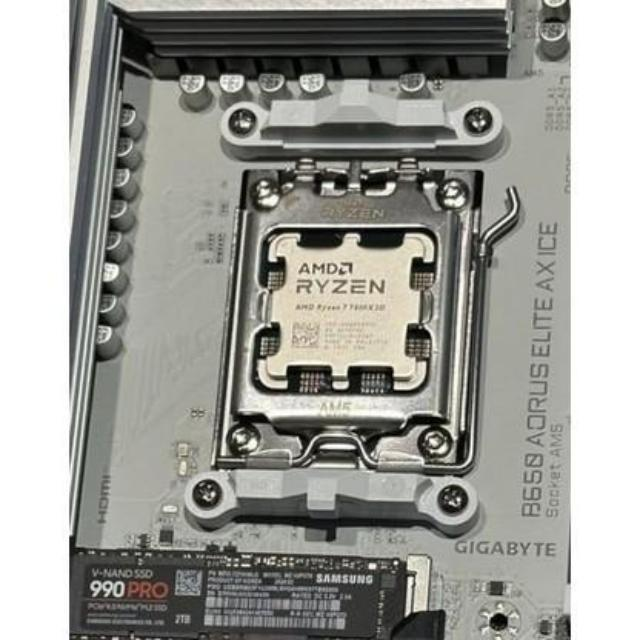CPU: (252, 228, 426, 392)
